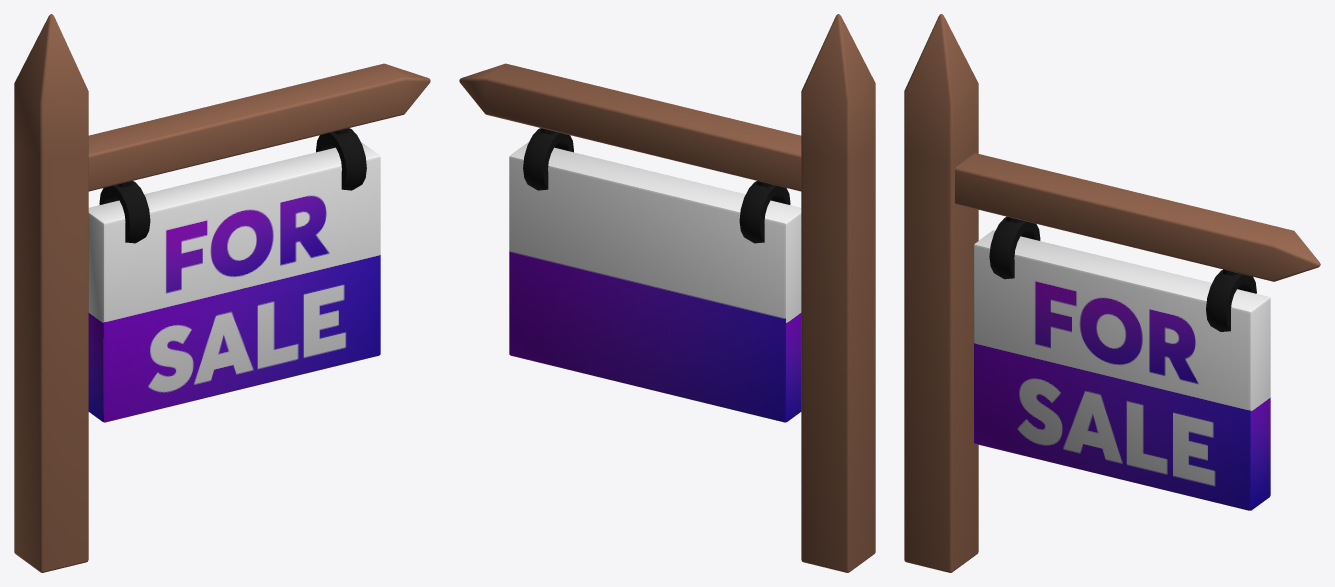
Rendered from SaleIcon.fbx.
3 views of the same model, side by side, from view 1: azimuth 30°, elevation 25°; view 2: azimuth 150°, elevation 25°; view 3: azimuth 330°, elevation 25° (orthographic).
Parts seen in each view (by area): view 1: Cube; view 2: Cube; view 3: Cube.
Part boxes in pixels (box(x1,y1,x2,y2)): Cube: box(14, 14, 430, 572); Cube: box(459, 14, 875, 572); Cube: box(904, 14, 1320, 572).
Size of the model in its own units: 82.33 by 106 by 12.
3 materials, 1 textured.
